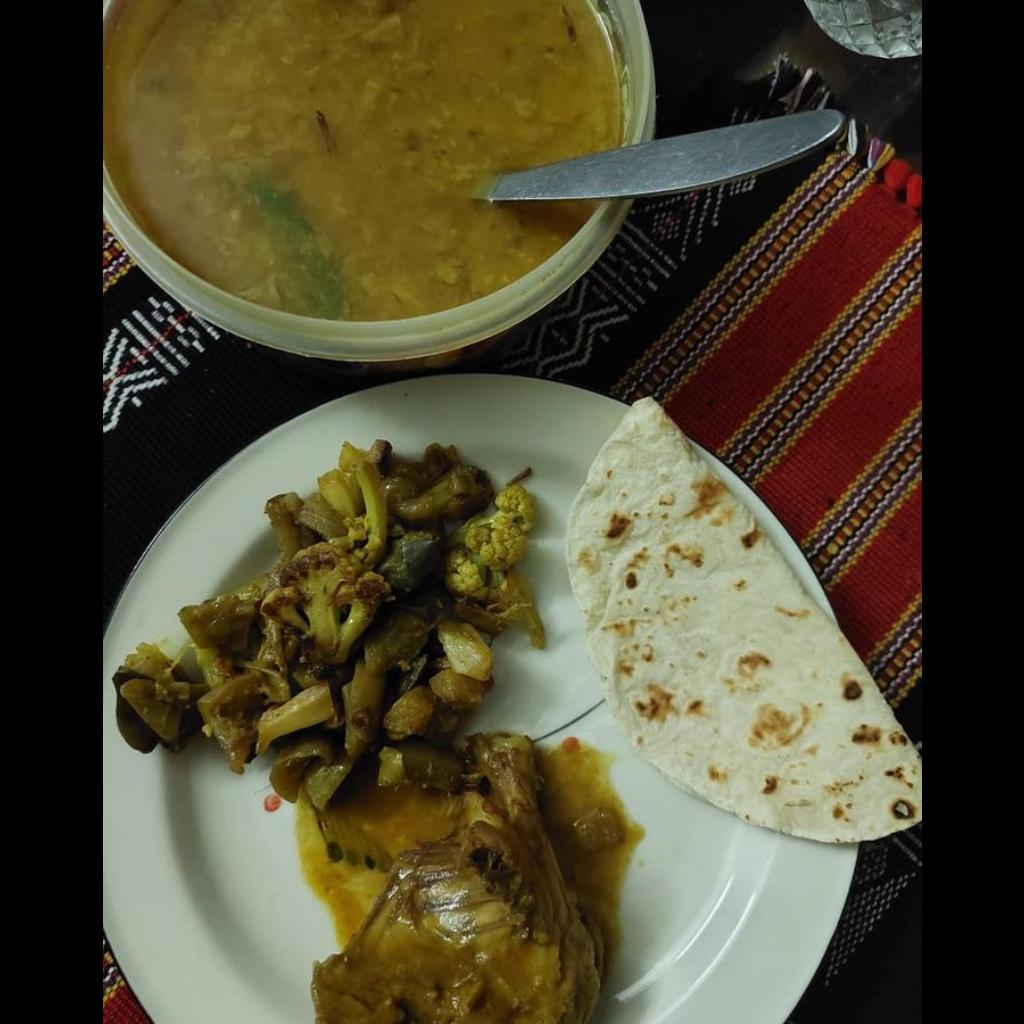chicken: (314, 734, 612, 1022)
daal: (102, 0, 625, 319)
ruti: (562, 402, 920, 846)
vaji: (110, 441, 542, 809)
